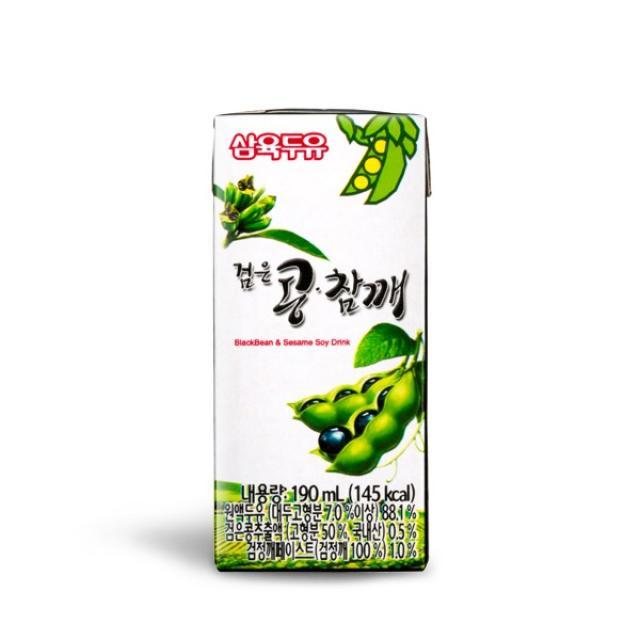Tetra: (195, 84, 439, 590)
